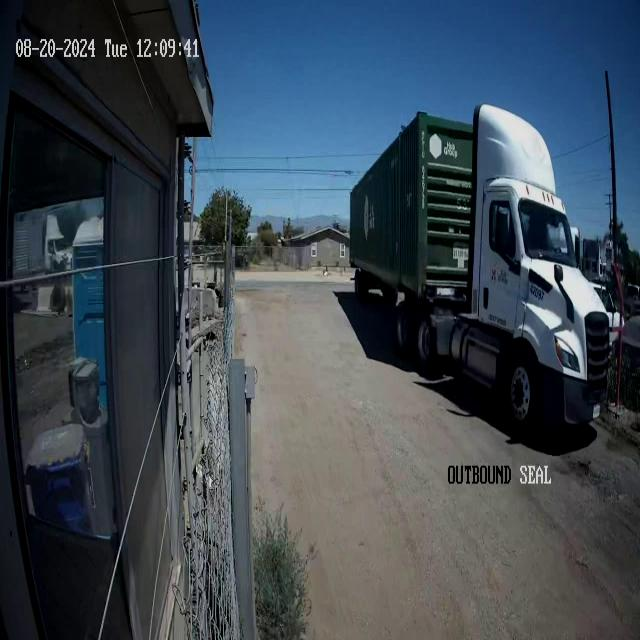CONTAINER: (350, 110, 473, 298)
